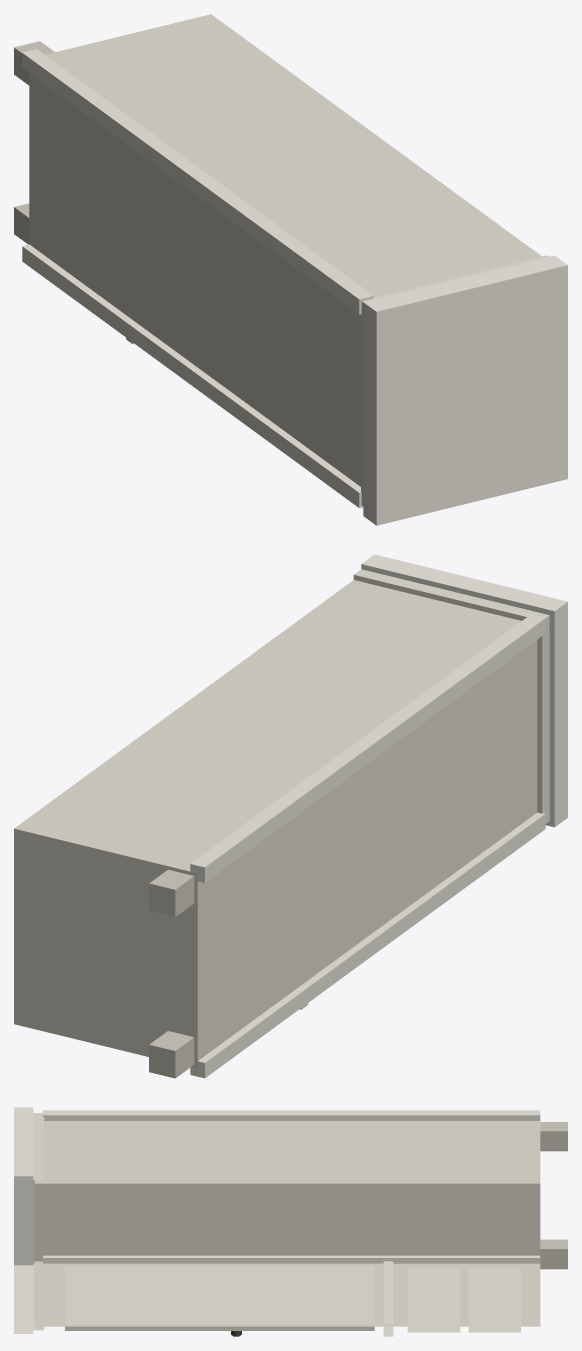
Rendered from section-6.obj.
3 renders of one model, top to bottom at view 1: azimuth 30°, elevation 25°; view 2: azimuth 150°, elevation 25°; view 3: azimuth 270°, elevation 25°, orthographic. The views are drawn at different scales.
Size of the model in its own units: 0.59 by 0.6575 by 2.01.
Materials: 1 (1 with a texture image).
